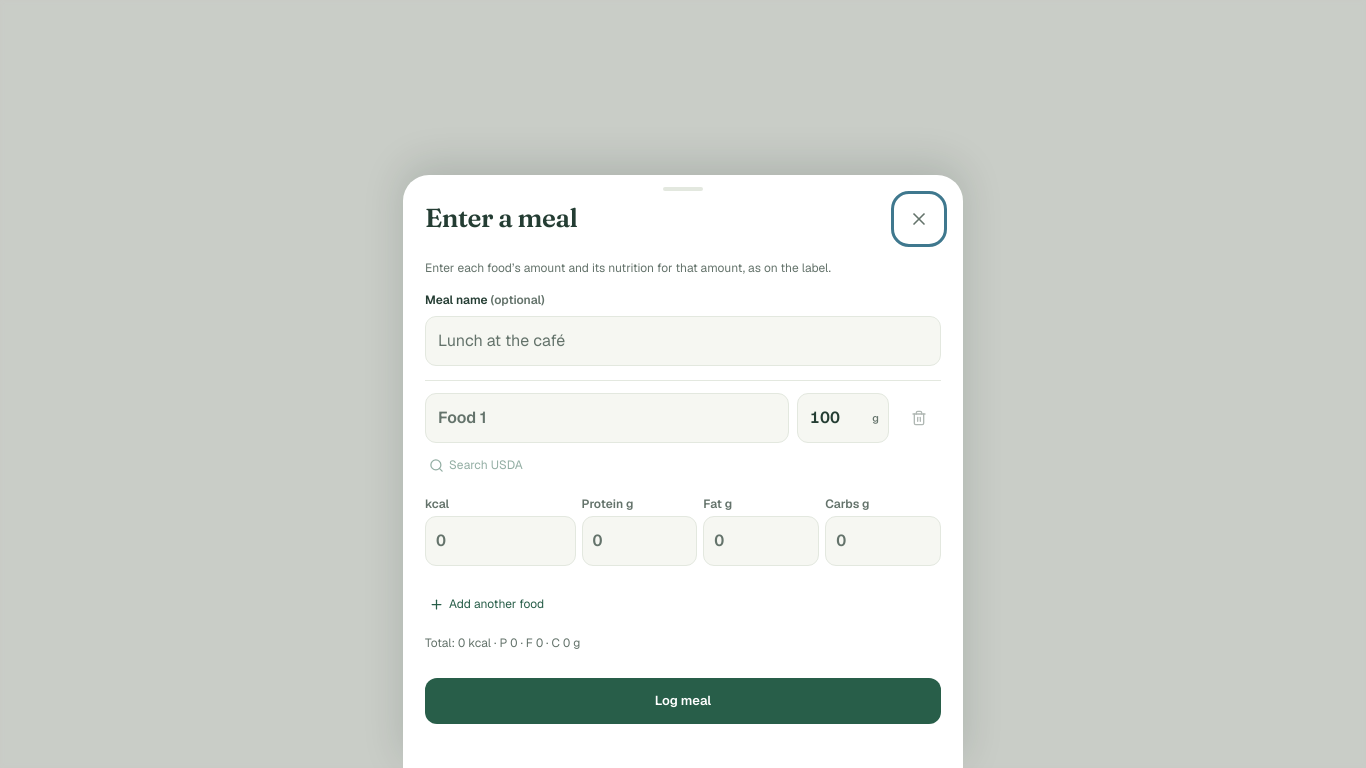
it: manual meal form › explains values the server would reject
In the field named "Food 1 name": (607, 418) [425, 393, 789, 443], type "Seeds"
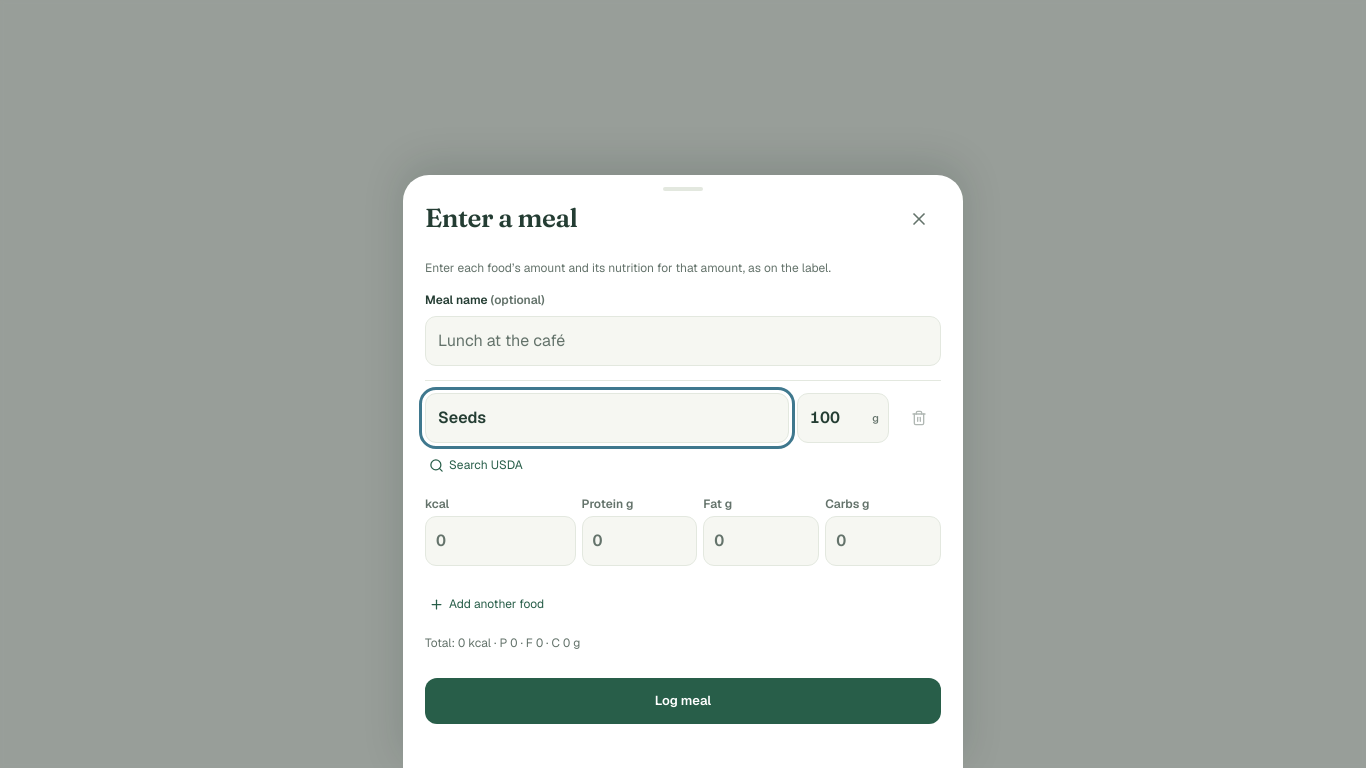
In the number field labelled "kcal": (500, 541) [425, 516, 576, 566], type "1500"
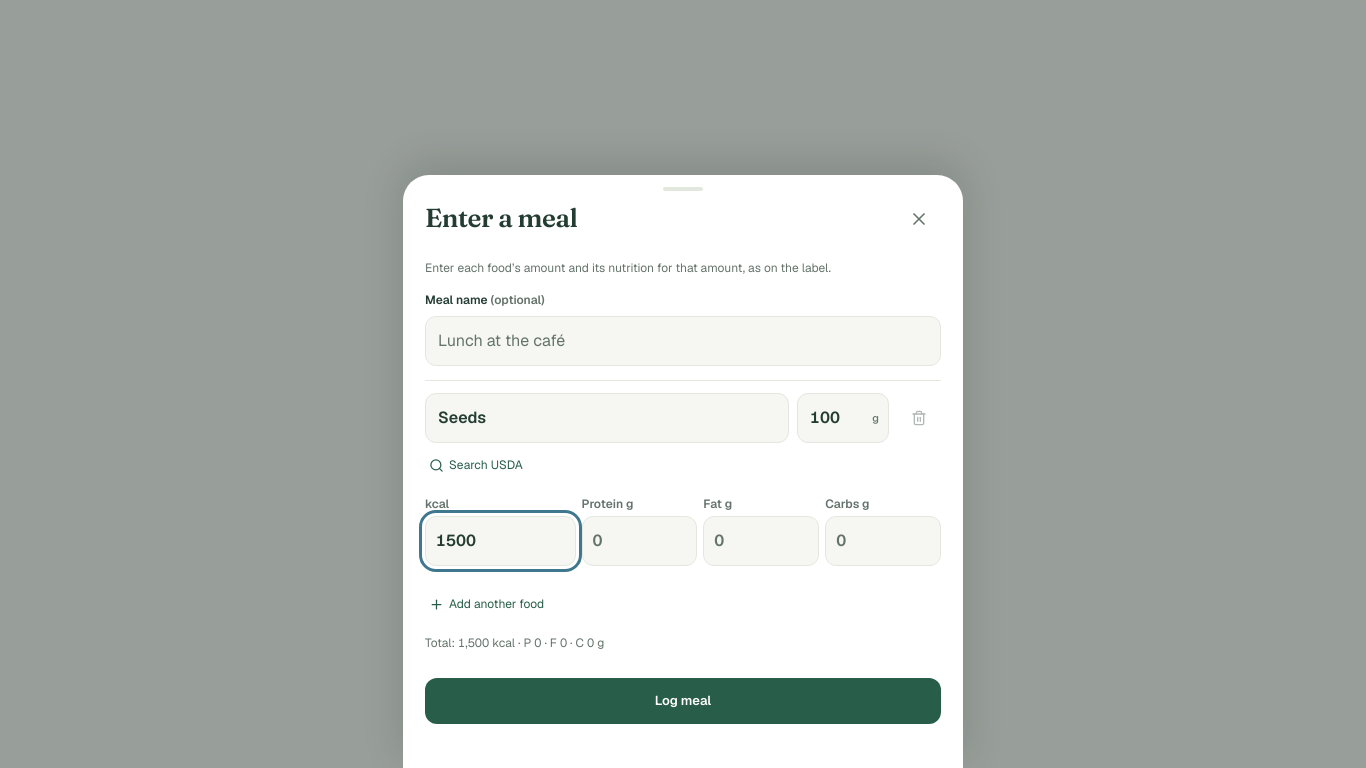
Click the button "Log meal": click(683, 701) [425, 678, 941, 724]
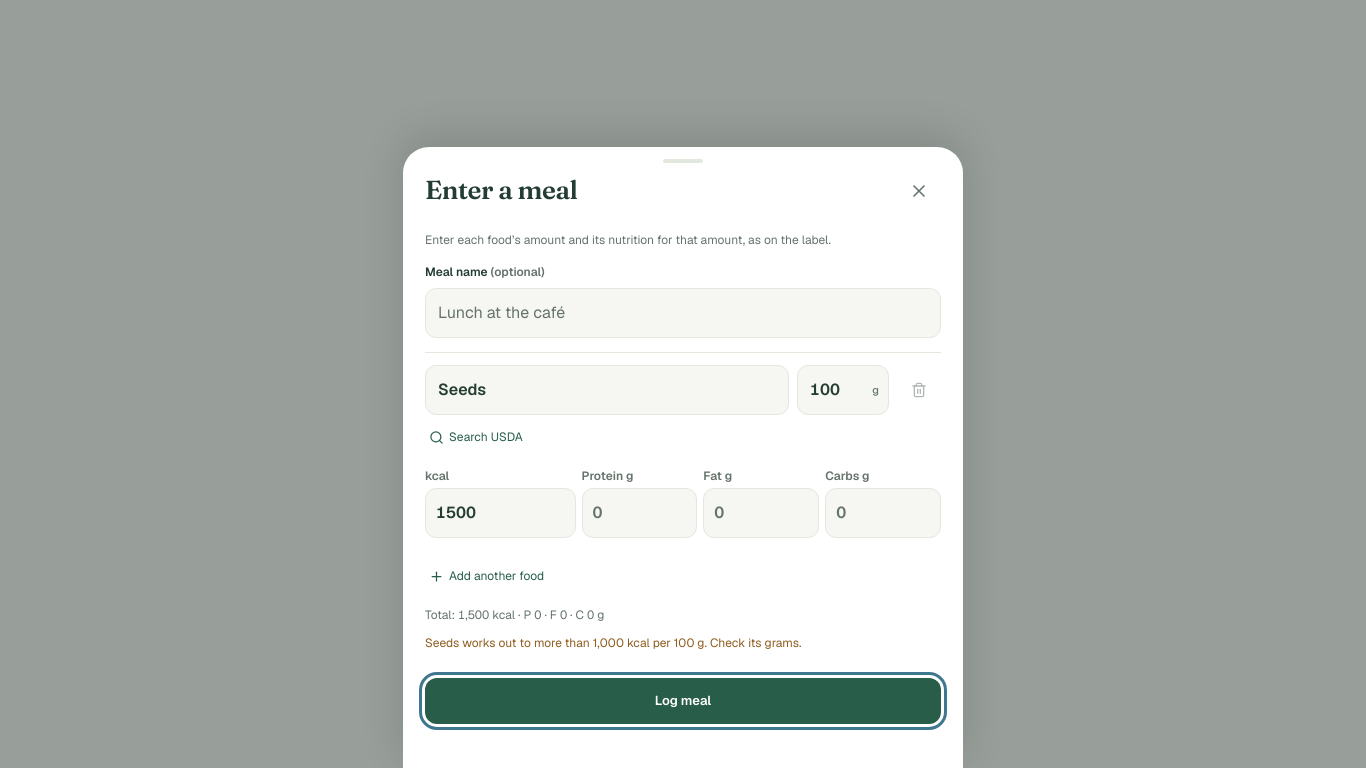
Expected: the message shows "Seeds works out to more than 1,000 kcal per 100 g", [425, 635, 801, 651]
